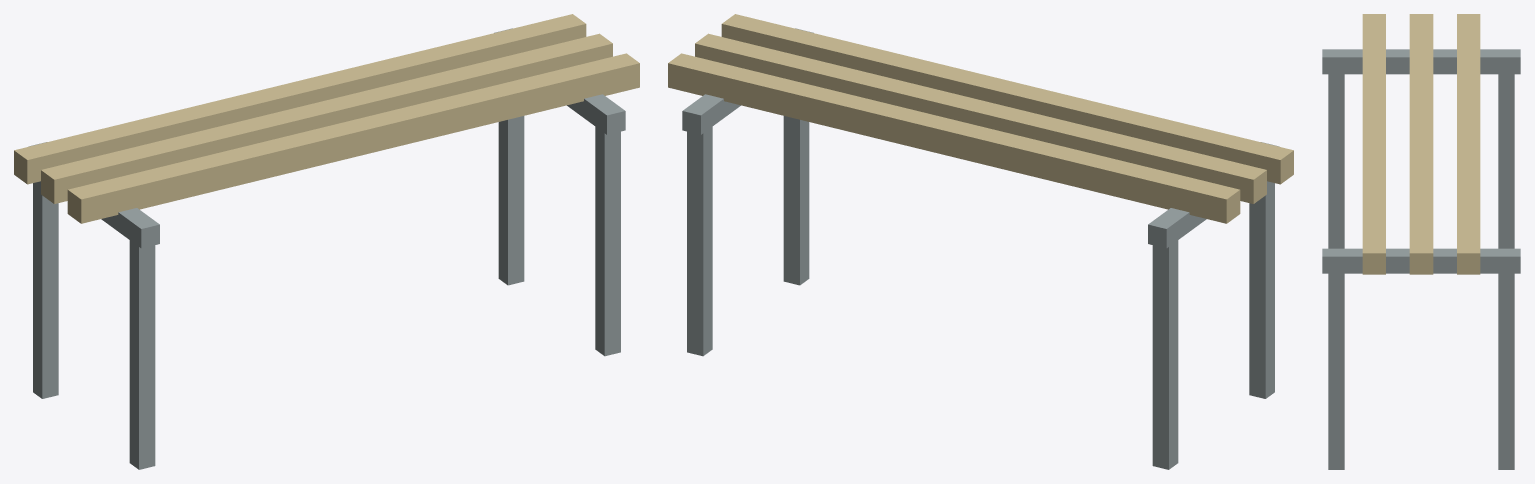
3 views of the same model, side by side, from view 1: azimuth 30°, elevation 25°; view 2: azimuth 150°, elevation 25°; view 3: azimuth 270°, elevation 25° (orthographic). The views are drawn at different scales.
Bounding box in the file's own units: 12 × 5.45 × 4.2.
